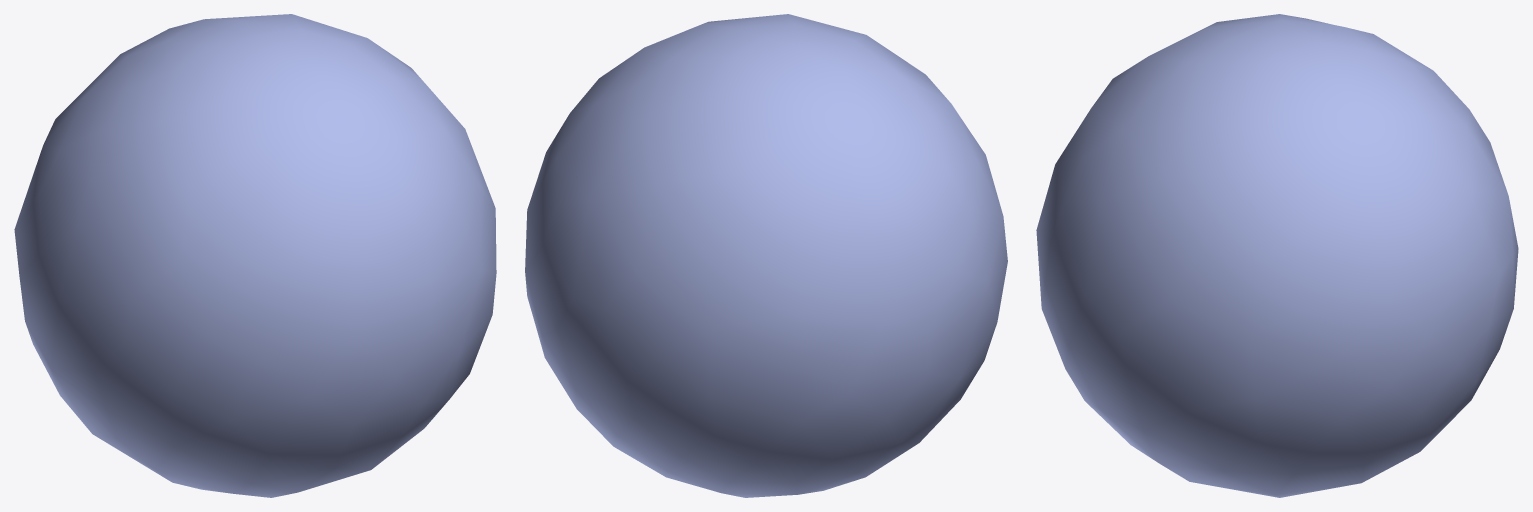
Rendered from SepikohFixed.glb.
The picture shows the model from 3 angles, left to right: view 1: azimuth 30°, elevation 25°; view 2: azimuth 150°, elevation 25°; view 3: azimuth 270°, elevation 25°; orthographic projection.
Parts seen in each view (by area): view 1: Sphere.001; view 2: Sphere.001; view 3: Sphere.001.
Boxes of the visible parts, <box> form: Sphere.001: <box>14,14,496,497</box>; Sphere.001: <box>525,14,1007,497</box>; Sphere.001: <box>1036,14,1518,497</box>.
Bounding box in the file's own units: 2.54 × 2.54 × 2.55.
